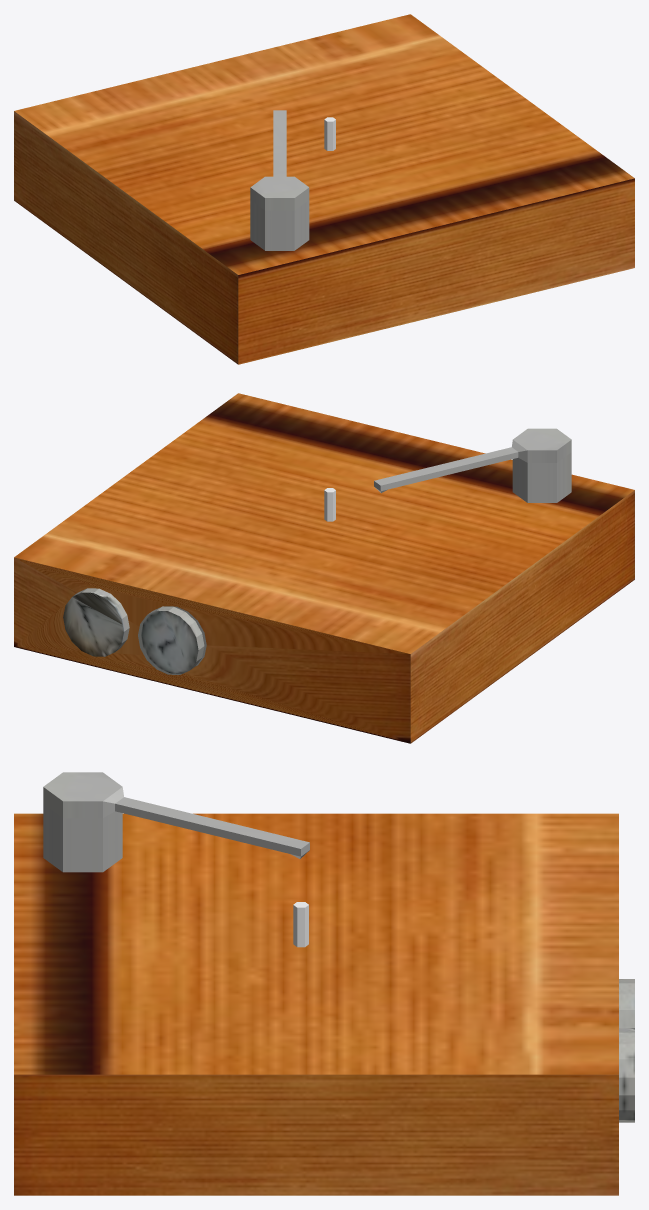
File: radio_base.fbx
3 views of the same model, one above another, from view 1: azimuth 30°, elevation 25°; view 2: azimuth 150°, elevation 25°; view 3: azimuth 270°, elevation 25° (orthographic). The views are drawn at different scales.
Visible parts, largest first — view 1: Cube; view 2: Cube; view 3: Cube.
Part boxes in pixels (bbox=[...]): Cube: bbox=[14, 14, 634, 364]; Cube: bbox=[14, 393, 634, 743]; Cube: bbox=[14, 772, 634, 1195].
Size of the model in its own units: 77.72 by 26.65 by 78.14.
